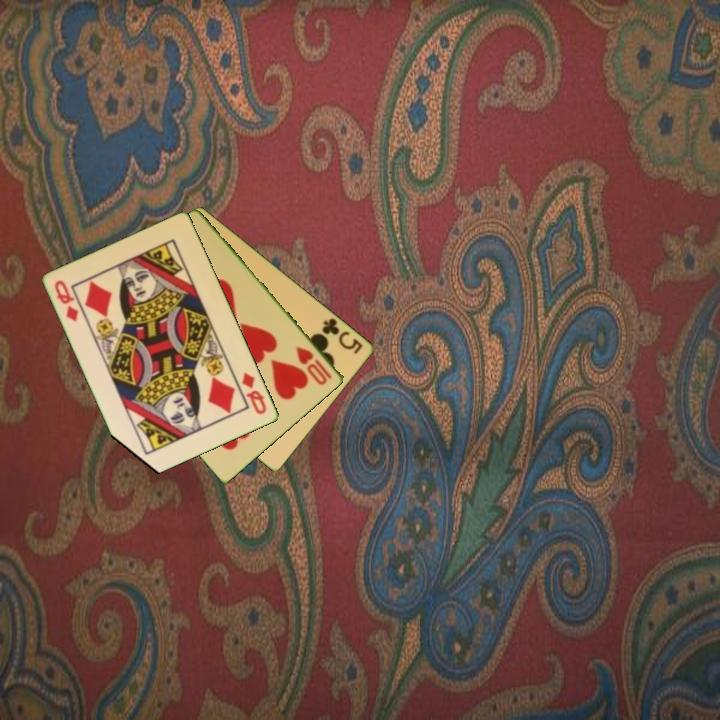10h: (293, 343, 336, 388)
5c: (319, 314, 366, 357)
Qd: (238, 369, 270, 418), (51, 276, 82, 325)
